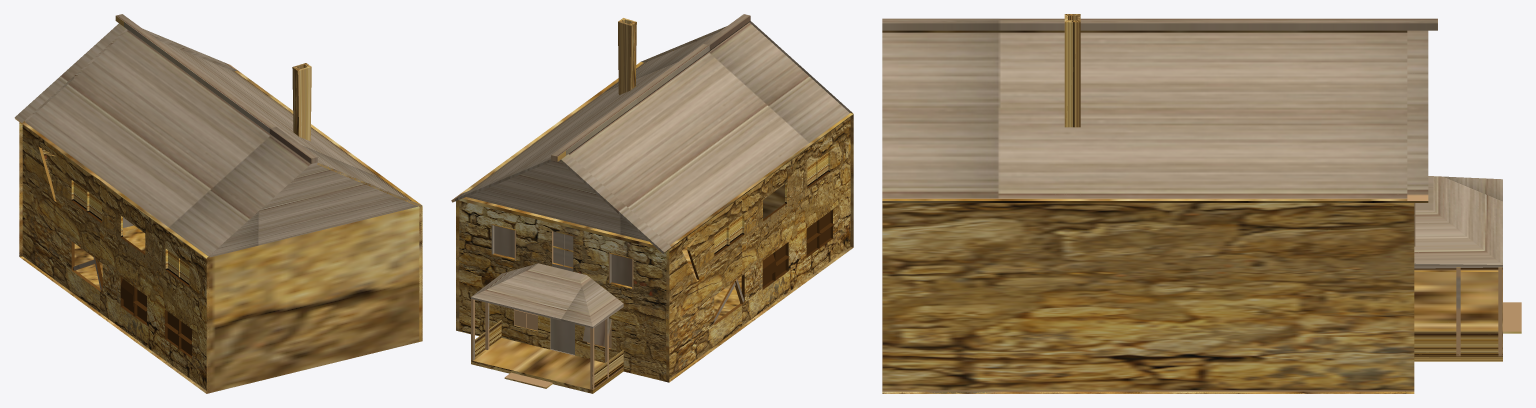
Rendered from house.fbx.
3 renders of one model, left to right at view 1: azimuth 30°, elevation 25°; view 2: azimuth 150°, elevation 25°; view 3: azimuth 270°, elevation 25°, orthographic. The views are drawn at different scales.
Parts seen in each view (by area): view 1: pCube1; view 2: pCube1; view 3: pCube1.
Boxes of the visible parts, left/top/right/bottom form: pCube1: left=14, top=14, right=422, bottom=393; pCube1: left=451, top=14, right=853, bottom=393; pCube1: left=882, top=14, right=1521, bottom=393.
Size of the model in its own units: 10 by 10.56 by 18.03.
